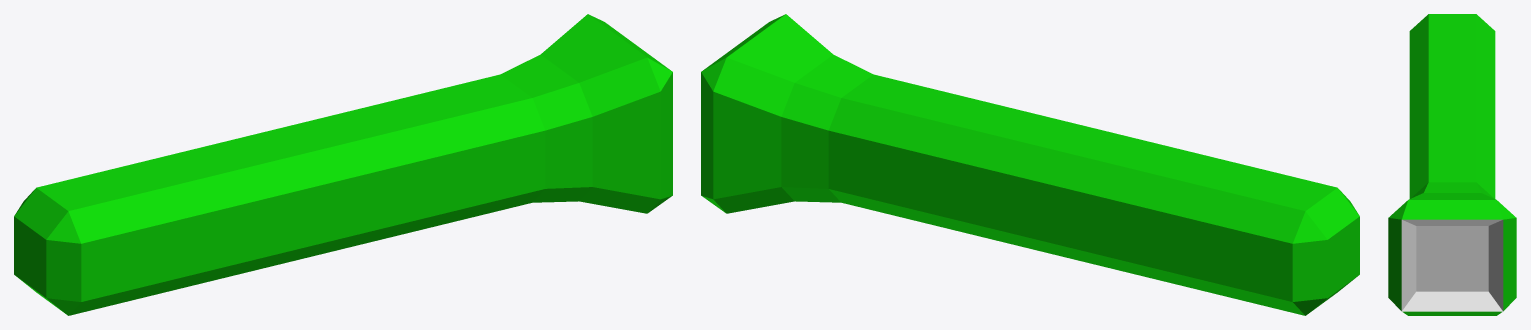
File: ShakeLight.fbx
3 renders of one model, left to right at view 1: azimuth 30°, elevation 25°; view 2: azimuth 150°, elevation 25°; view 3: azimuth 270°, elevation 25°, orthographic. The views are drawn at different scales.
Visible parts, largest first — view 1: ShakeLight; view 2: ShakeLight; view 3: ShakeLight.
Part boxes in pixels (left/top/right/bottom): ShakeLight: left=14, top=14, right=672, bottom=315; ShakeLight: left=701, top=14, right=1359, bottom=315; ShakeLight: left=1388, top=14, right=1516, bottom=315.
Size of the model in its own units: 59.67 by 243 by 59.67.
